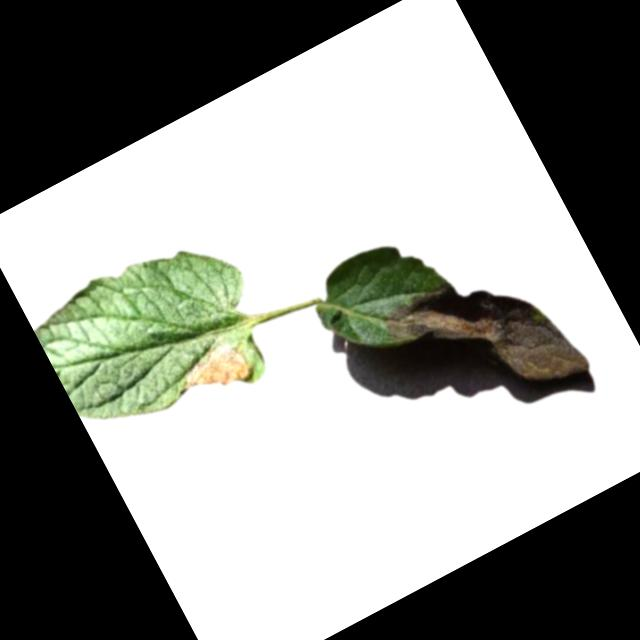Late_blight: (375, 236, 591, 444), (178, 339, 258, 408)
